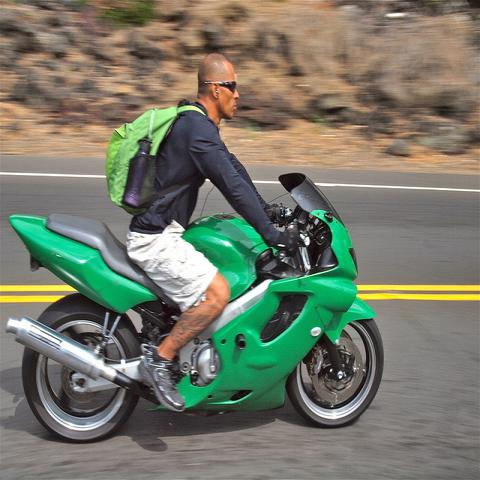motorcycle: (4, 173, 387, 449)
